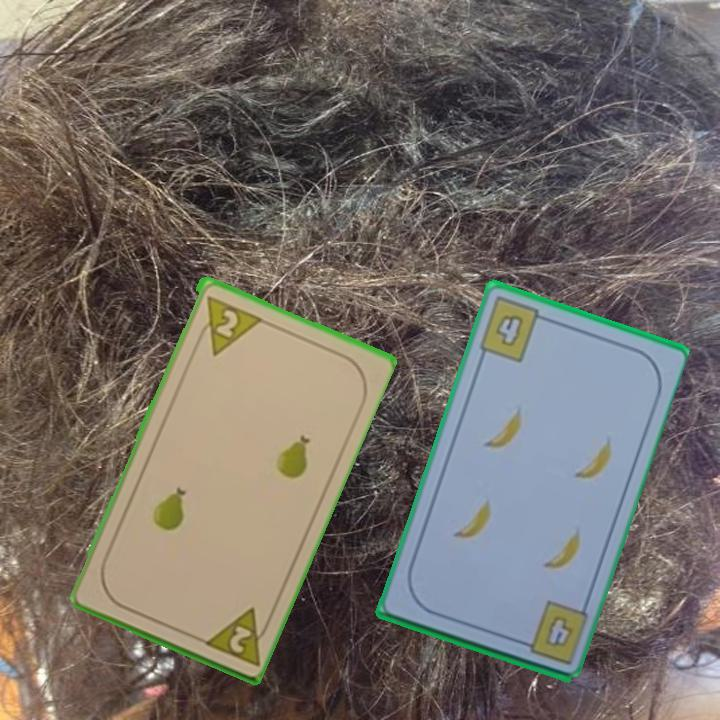2p: (192, 290, 263, 358), (225, 621, 254, 656)
4b: (475, 293, 551, 365), (541, 611, 575, 650)
